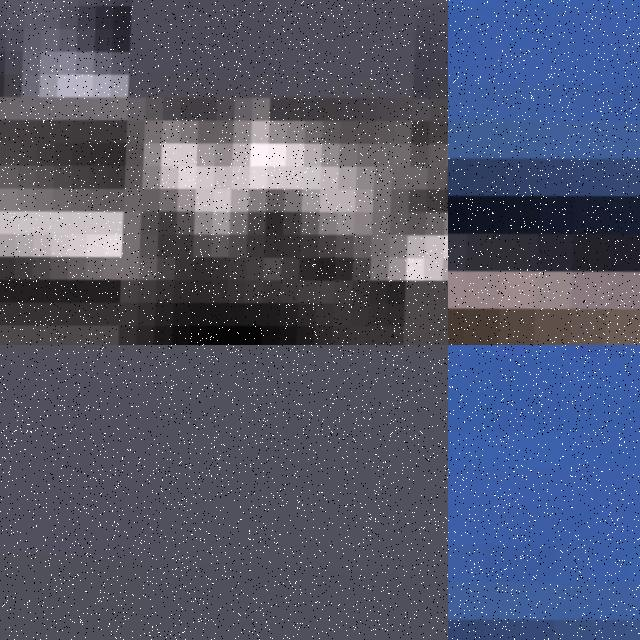0: (0, 0, 448, 345)
drone: (448, 0, 640, 345), (448, 345, 640, 640)
